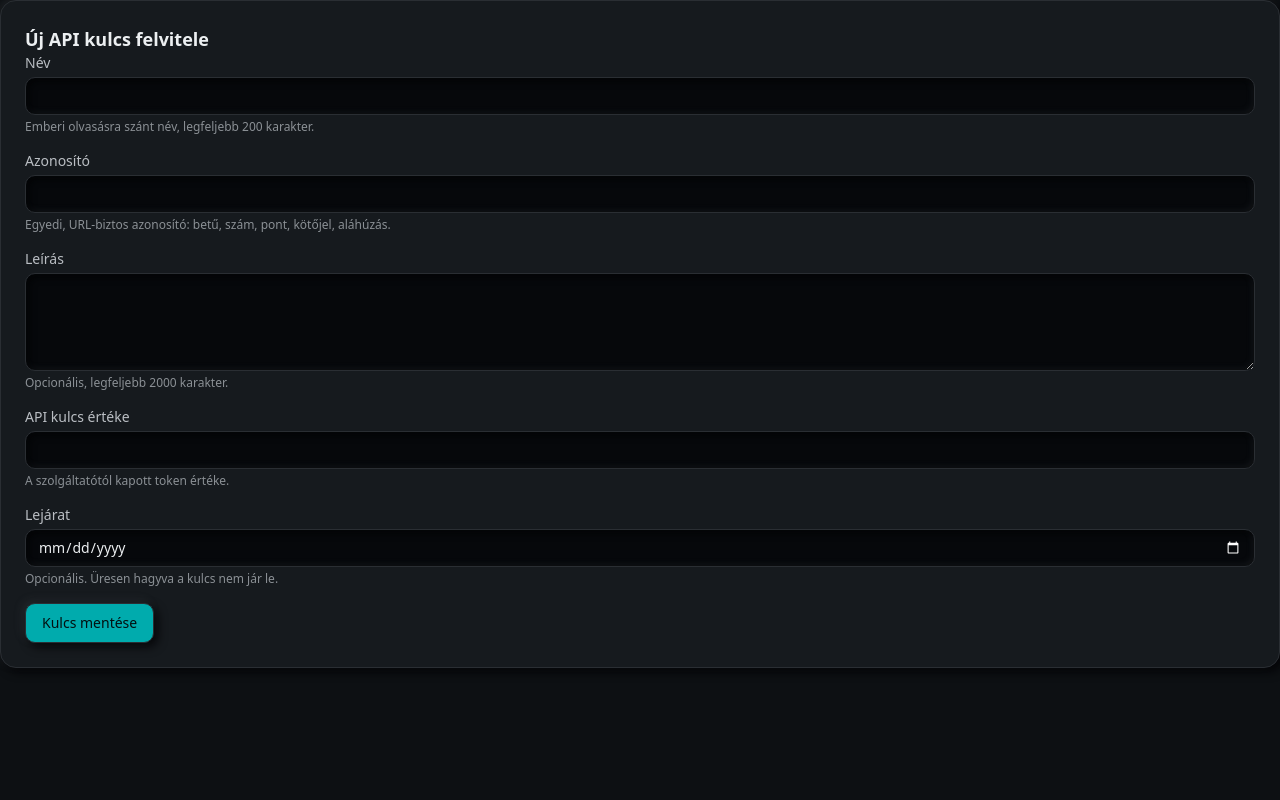
Test: ApiKeyForm › blocks the submit and reports every missing required field
What coordinates should you click on to do the following:
click the button "Kulcs mentése"
I would click on:
 (90, 623)
Its box is [25, 603, 154, 643].
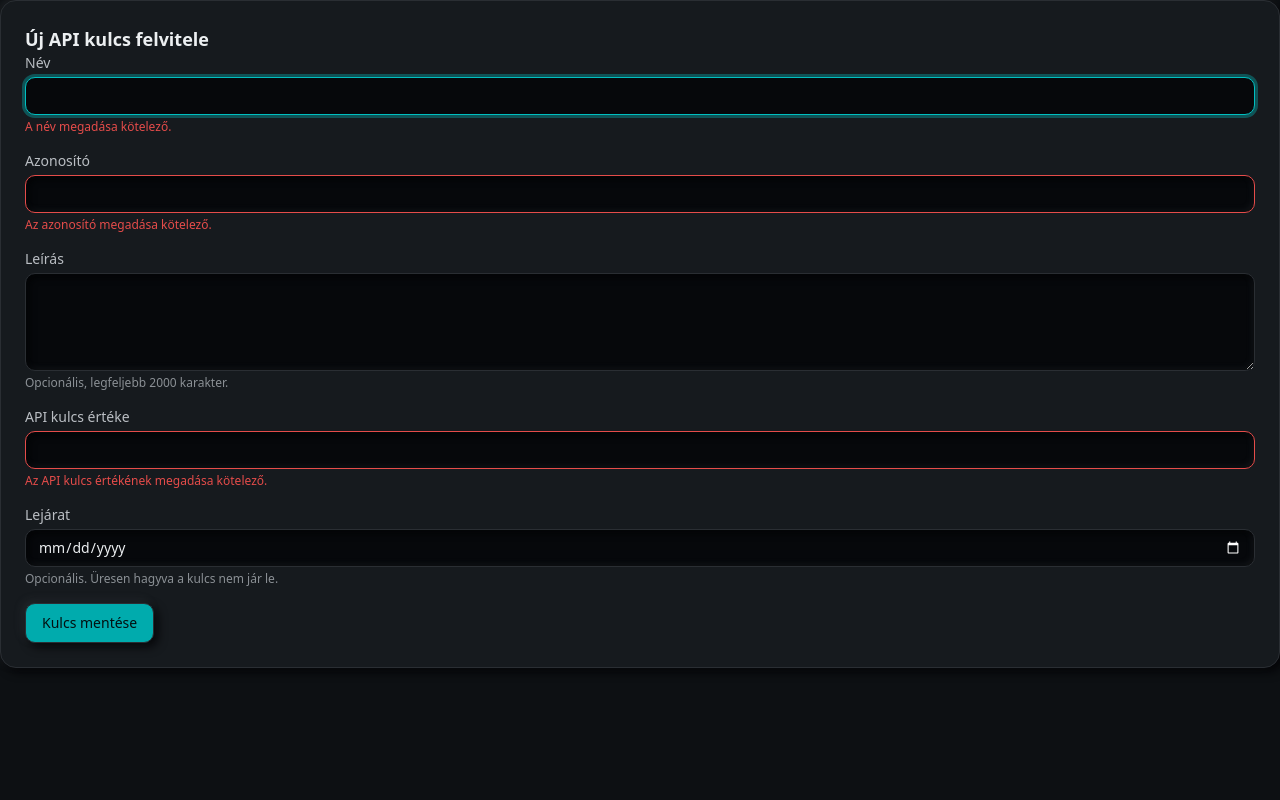
Result: the text "A név megadása kötelező." is shown at [25, 118, 171, 135]
Result: the text "Az azonosító megadása kötelező." is shown at [25, 216, 212, 233]
Result: the text "Az API kulcs értékének megadása kötelező." is shown at [25, 472, 267, 489]
